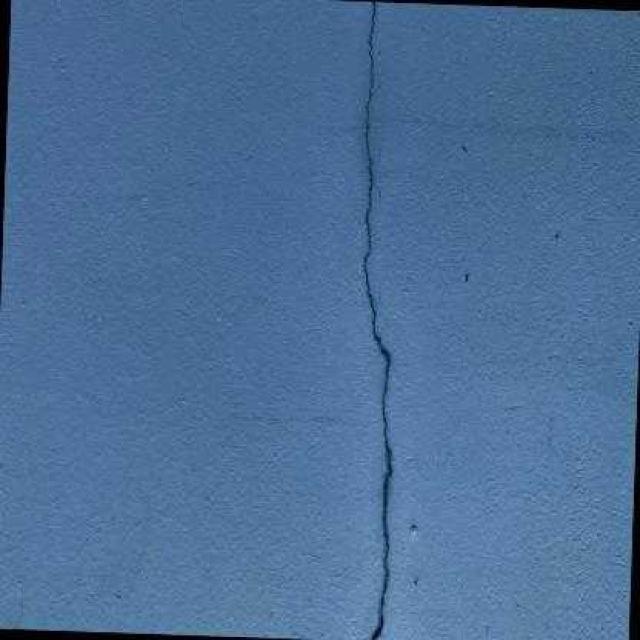D00: (363, 2, 391, 640)
